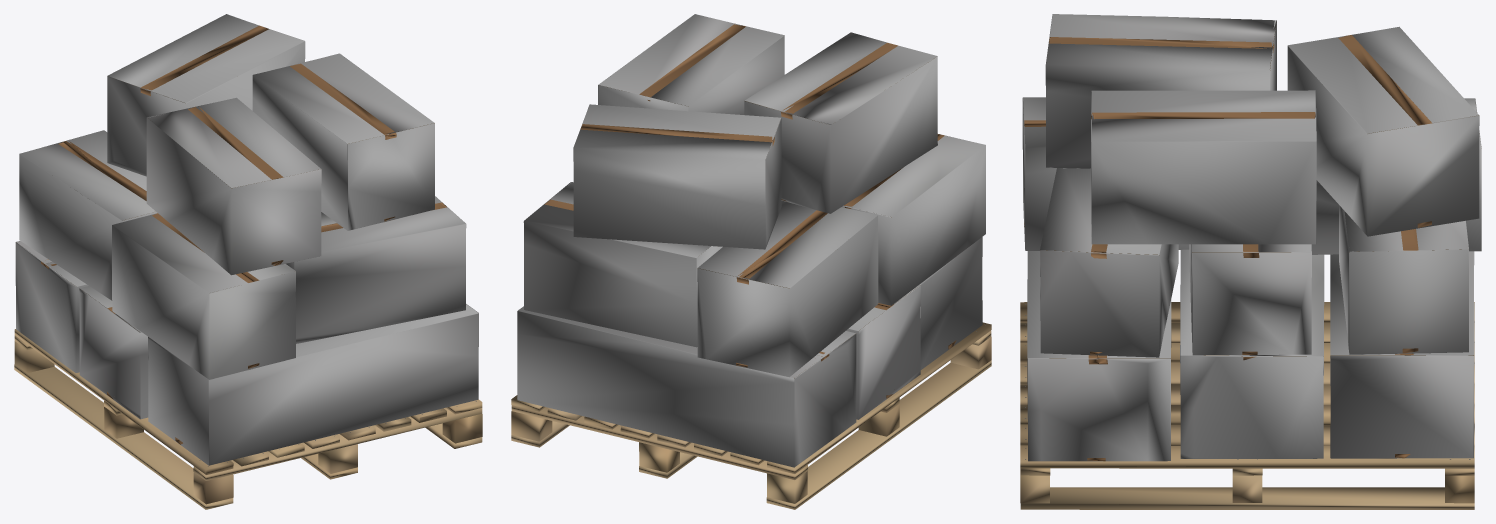
File: pallet-loaded.glb
3 renders of one model, left to right at view 1: azimuth 30°, elevation 25°; view 2: azimuth 150°, elevation 25°; view 3: azimuth 270°, elevation 25°, orthographic. The views are drawn at different scales.
Visible parts, largest first — view 1: geometry_0; view 2: geometry_0; view 3: geometry_0.
Part boxes in pixels (left/top/right/bottom): geometry_0: left=14, top=14, right=482, bottom=509; geometry_0: left=511, top=14, right=991, bottom=509; geometry_0: left=1020, top=14, right=1481, bottom=509.
Bounding box in the file's own units: 0.7385 × 0.7715 × 0.8998.
